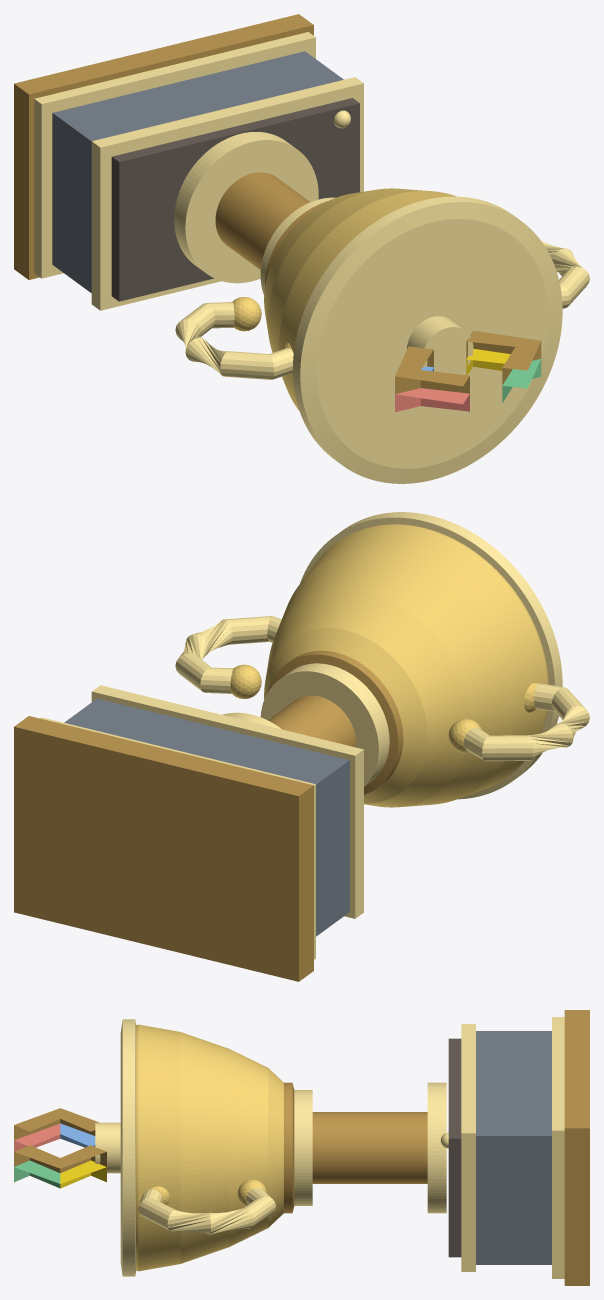
The model's file is gdg_labyrinth_trophy.glb.
3 views of the same model, one above another, from view 1: azimuth 30°, elevation 25°; view 2: azimuth 150°, elevation 25°; view 3: azimuth 270°, elevation 25° (orthographic). The views are drawn at different scales.
Parts seen in each view (by area): view 1: Thick rolled cup rim, Pedestal dark inset, Pedestal main block, Base foot lower, Stem lower collar, Pedestal upper molding, Trophy cup bowl, Base foot gold trim, Stem shaft, Left trophy handle, Peak socket, Right trophy handle (+9 smaller); view 2: Base foot lower, Trophy cup bowl, Pedestal main block, Pedestal upper molding, Stem upper collar, Thick rolled cup rim, Left trophy handle, Right trophy handle, Cup lower ring, Stem shaft, Base foot gold trim, Right handle lower boss (+1 smaller); view 3: Trophy cup bowl, Pedestal main block, Stem shaft, Base foot lower, Thick rolled cup rim, Pedestal upper molding, Base foot gold trim, Right trophy handle, Pedestal dark inset, Stem lower collar, Stem upper collar, Cup lower ring (+10 smaller).
Part boxes in pixels (x1,y1,x2,y2): Thick rolled cup rim: [293, 196, 562, 483]; Pedestal dark inset: [111, 98, 359, 301]; Pedestal main block: [52, 51, 343, 292]; Base foot lower: [14, 14, 313, 279]; Stem lower collar: [174, 132, 318, 283]; Pedestal upper molding: [91, 77, 363, 310]; Trophy cup bowl: [264, 188, 456, 410]; Base foot gold trim: [34, 32, 315, 278]; Stem shaft: [215, 172, 310, 269]; Left trophy handle: [175, 302, 293, 379]; Peak socket: [407, 316, 473, 374]; Right trophy handle: [541, 241, 589, 308]; Base foot lower: [14, 716, 313, 981]; Trophy cup bowl: [264, 524, 548, 807]; Pedestal main block: [64, 698, 349, 936]; Pedestal upper molding: [91, 685, 363, 918]; Stem upper collar: [260, 663, 389, 786]; Thick rolled cup rim: [300, 512, 562, 799]; Left trophy handle: [463, 683, 589, 761]; Right trophy handle: [175, 616, 281, 693]; Cup lower ring: [267, 650, 403, 794]; Stem shaft: [268, 695, 356, 747]; Base foot gold trim: [40, 717, 315, 959]; Right handle lower boss: [230, 664, 261, 698]; Trophy cup bowl: [136, 1024, 283, 1271]; Pedestal main block: [476, 1031, 551, 1264]; Stem shaft: [312, 1112, 427, 1183]; Base foot lower: [564, 1010, 589, 1285]; Thick rolled cup rim: [120, 1019, 135, 1276]; Pedestal upper molding: [461, 1024, 475, 1271]; Base foot gold trim: [552, 1017, 564, 1278]; Right trophy handle: [138, 1187, 275, 1234]; Pedestal dark inset: [448, 1038, 461, 1257]; Stem lower collar: [427, 1082, 446, 1213]; Stem upper collar: [294, 1090, 312, 1205]; Cup lower ring: [283, 1082, 294, 1213].
Size of the model in its own units: 3.61 by 2.44 by 5.46.
